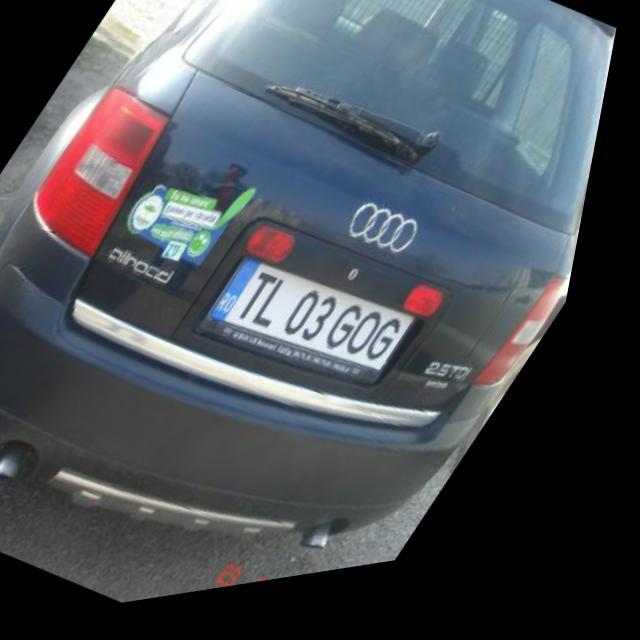license_plate: (195, 235, 447, 438)
